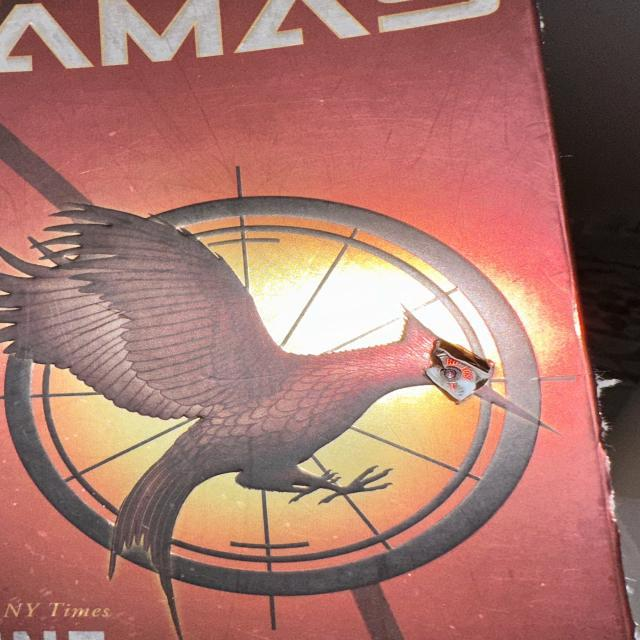hidden camera: (439, 366, 463, 383)
